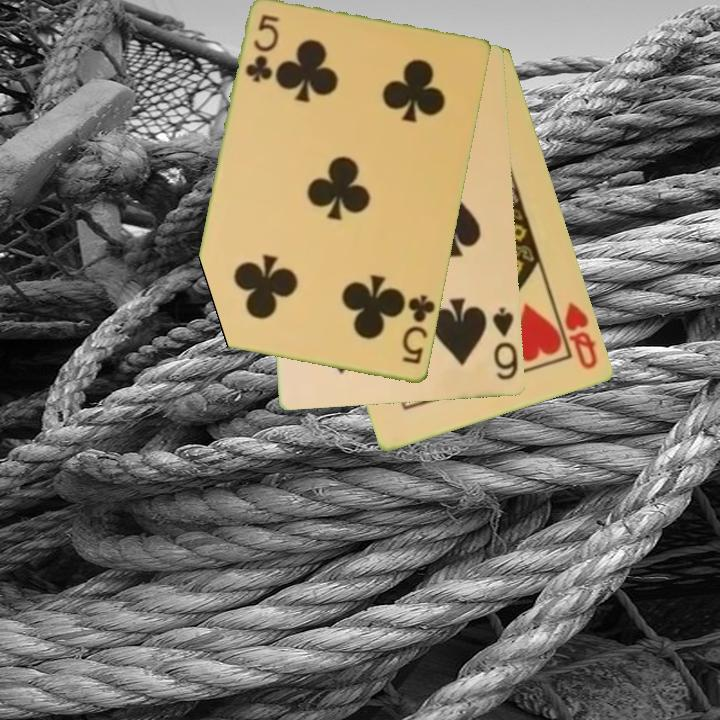5c: (242, 11, 283, 86), (399, 292, 438, 368)
6s: (489, 304, 521, 383)
Qh: (561, 299, 601, 373)
